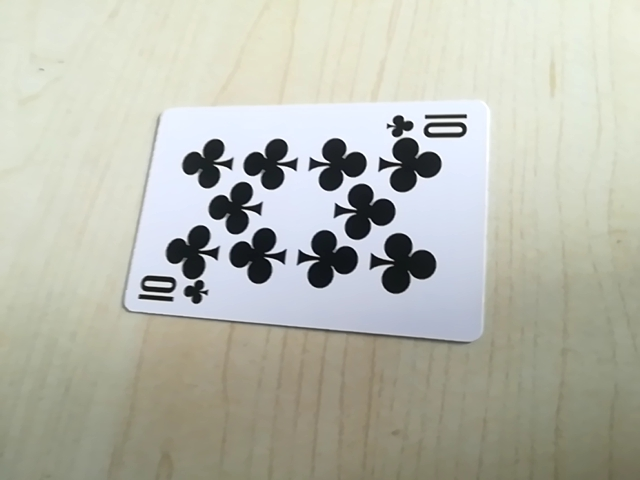mh 10: (382, 107, 476, 142), (133, 277, 212, 312)
